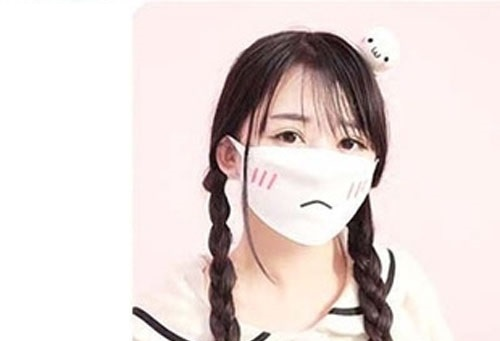face_mask: (238, 74, 380, 245)
